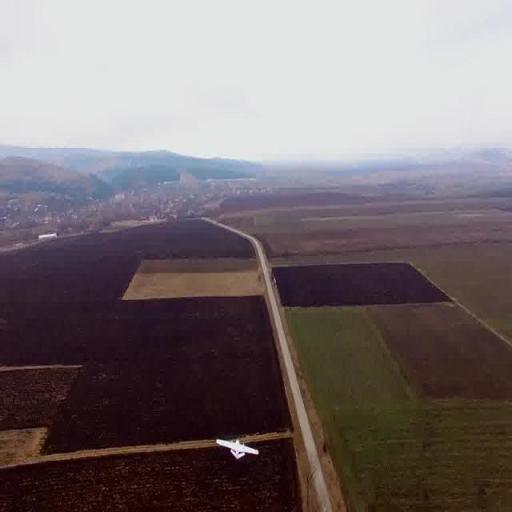uav: (213, 425, 269, 468)
